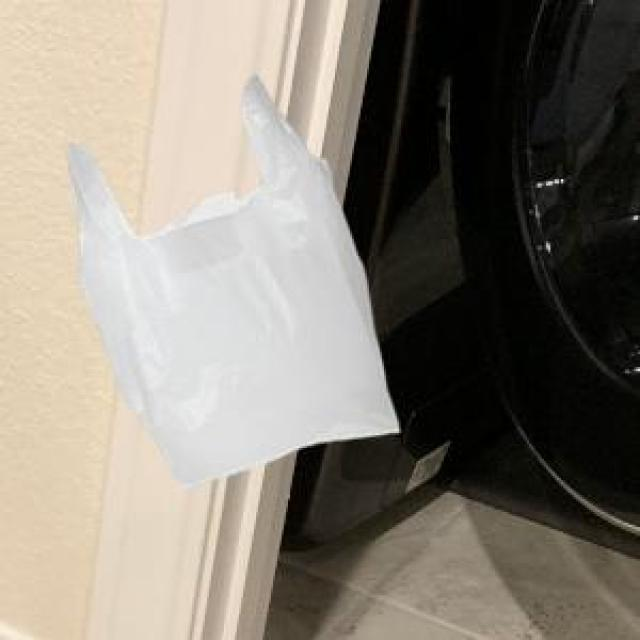waste: (69, 78, 399, 484)
